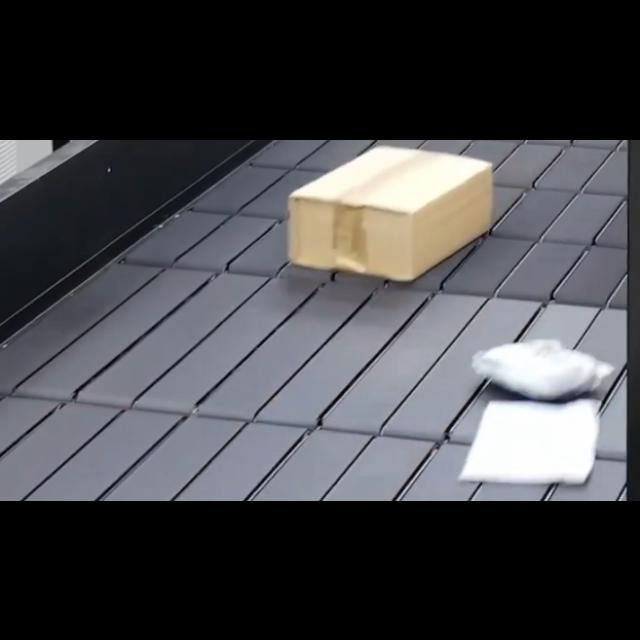box: (290, 146, 492, 278)
mailer: (461, 401, 597, 484), (472, 340, 610, 402)
